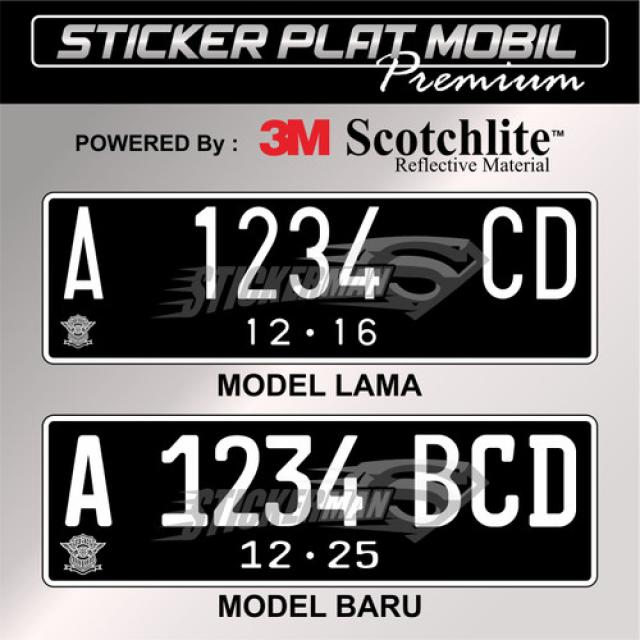lisence-plate: (22, 174, 605, 370), (35, 412, 602, 594)
